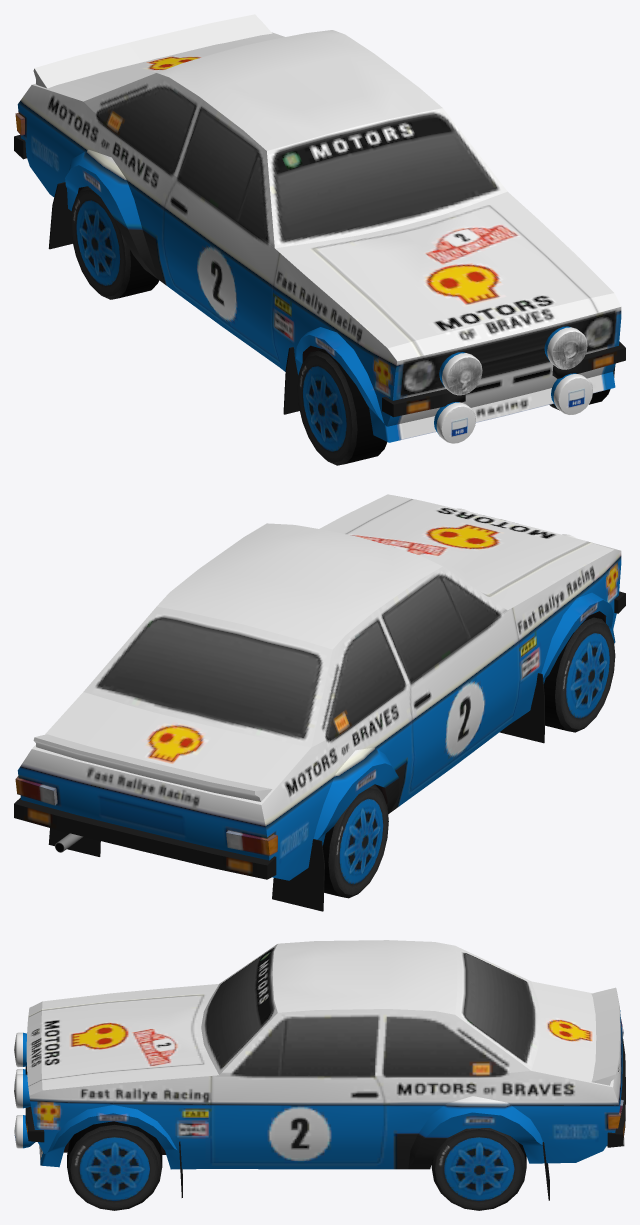
File: Ford Escort RS1800 with lights.fbx
3 views of the same model, one above another, from view 1: azimuth 30°, elevation 25°; view 2: azimuth 150°, elevation 25°; view 3: azimuth 270°, elevation 25° (orthographic). The views are drawn at different scales.
Visible parts, largest first — view 1: Ford Escort RS1800, L_front_wheel_geo #370623.003, fanale1_geo.001, L_front_wheel_geo #370623.002; view 2: Ford Escort RS1800, L_front_wheel_geo #370623.003, L_front_wheel_geo #370623.002; view 3: Ford Escort RS1800, L_front_wheel_geo #370623, L_front_wheel_geo #370623.001, fanale1_geo.001.
Part boxes in pixels (box(x1,y1,x2,y2)): Ford Escort RS1800: box(14, 14, 625, 442); L_front_wheel_geo #370623.003: box(297, 349, 387, 465); fanale1_geo.001: box(434, 326, 592, 443); L_front_wheel_geo #370623.002: box(70, 186, 158, 299); Ford Escort RS1800: box(14, 494, 625, 911); L_front_wheel_geo #370623.003: box(543, 616, 615, 732); L_front_wheel_geo #370623.002: box(322, 784, 388, 898); Ford Escort RS1800: box(25, 940, 625, 1200); L_front_wheel_geo #370623: box(67, 1121, 162, 1210); L_front_wheel_geo #370623.001: box(431, 1128, 526, 1210); fanale1_geo.001: box(14, 1032, 35, 1148).
Size of the model in its own units: 175 by 143 by 416.
Materials: 6 (6 with a texture image).
